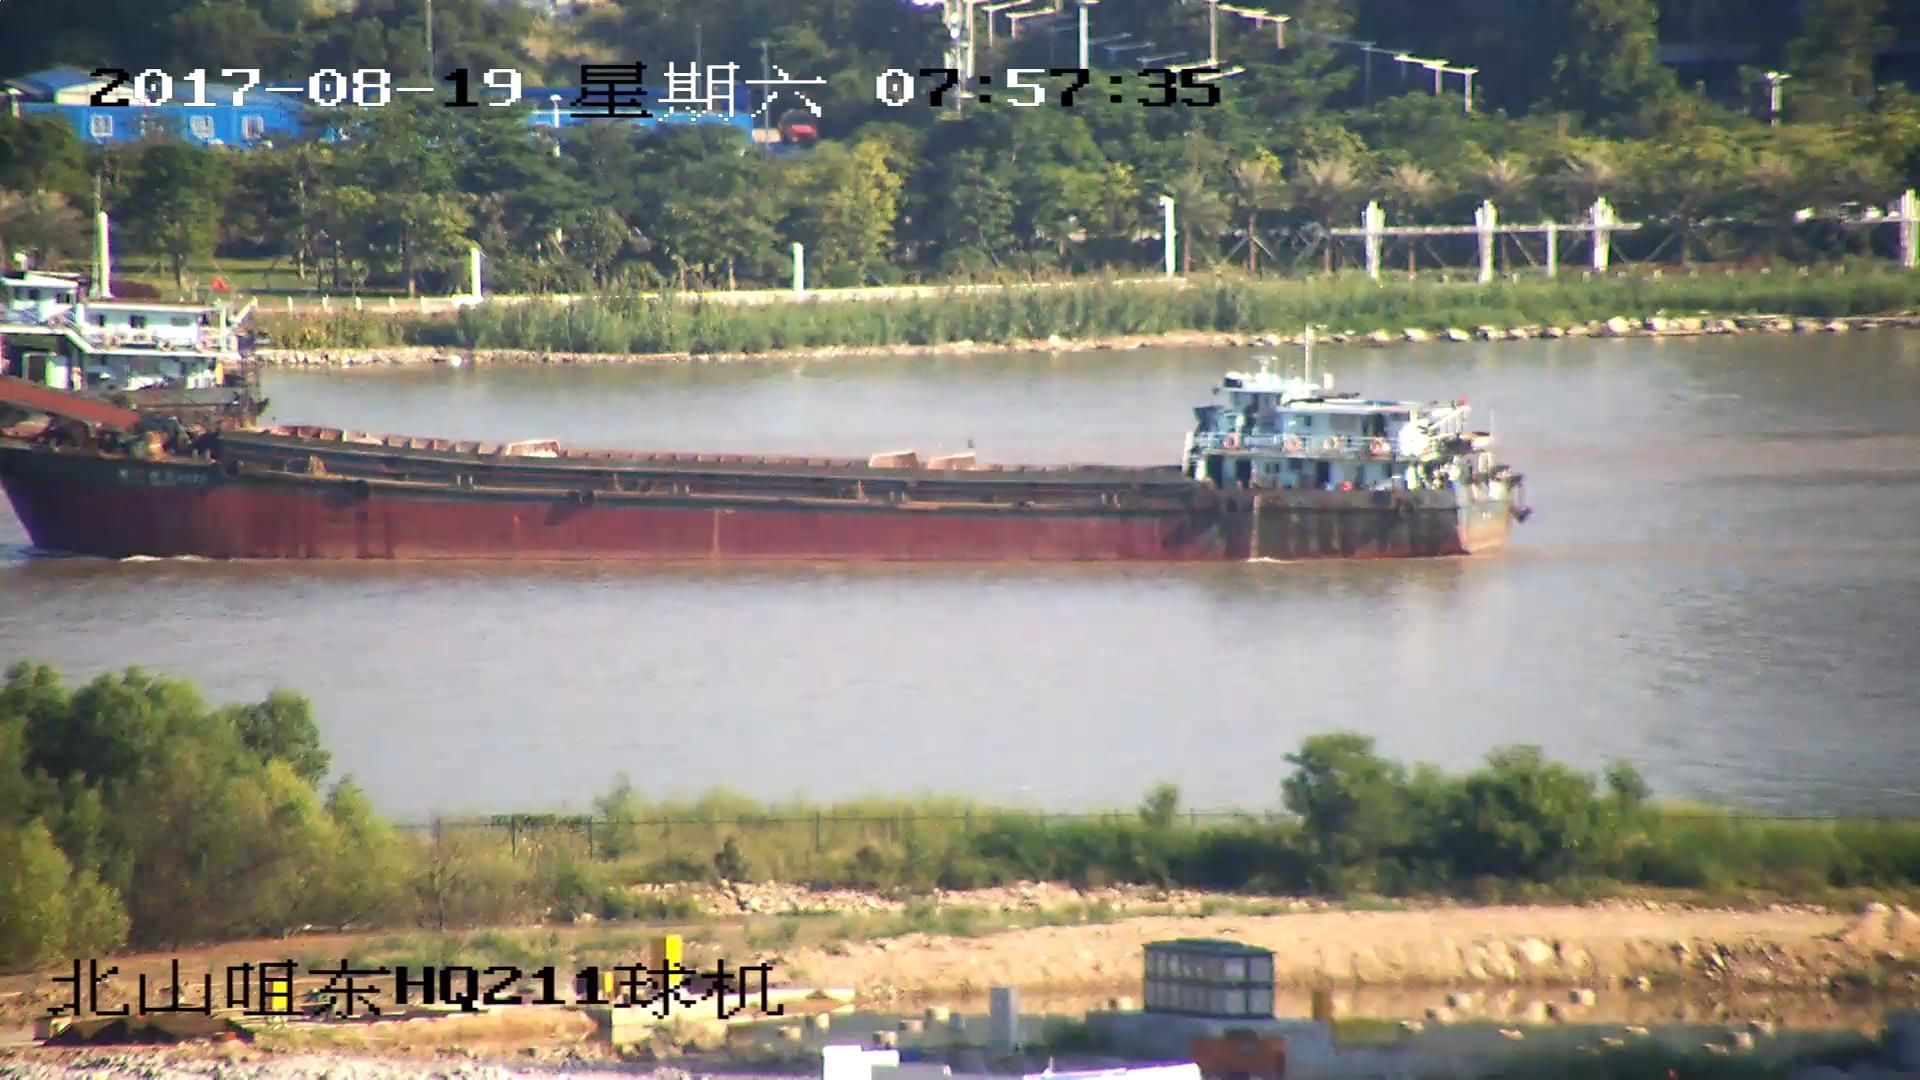Ship: (3, 311, 1536, 572)
